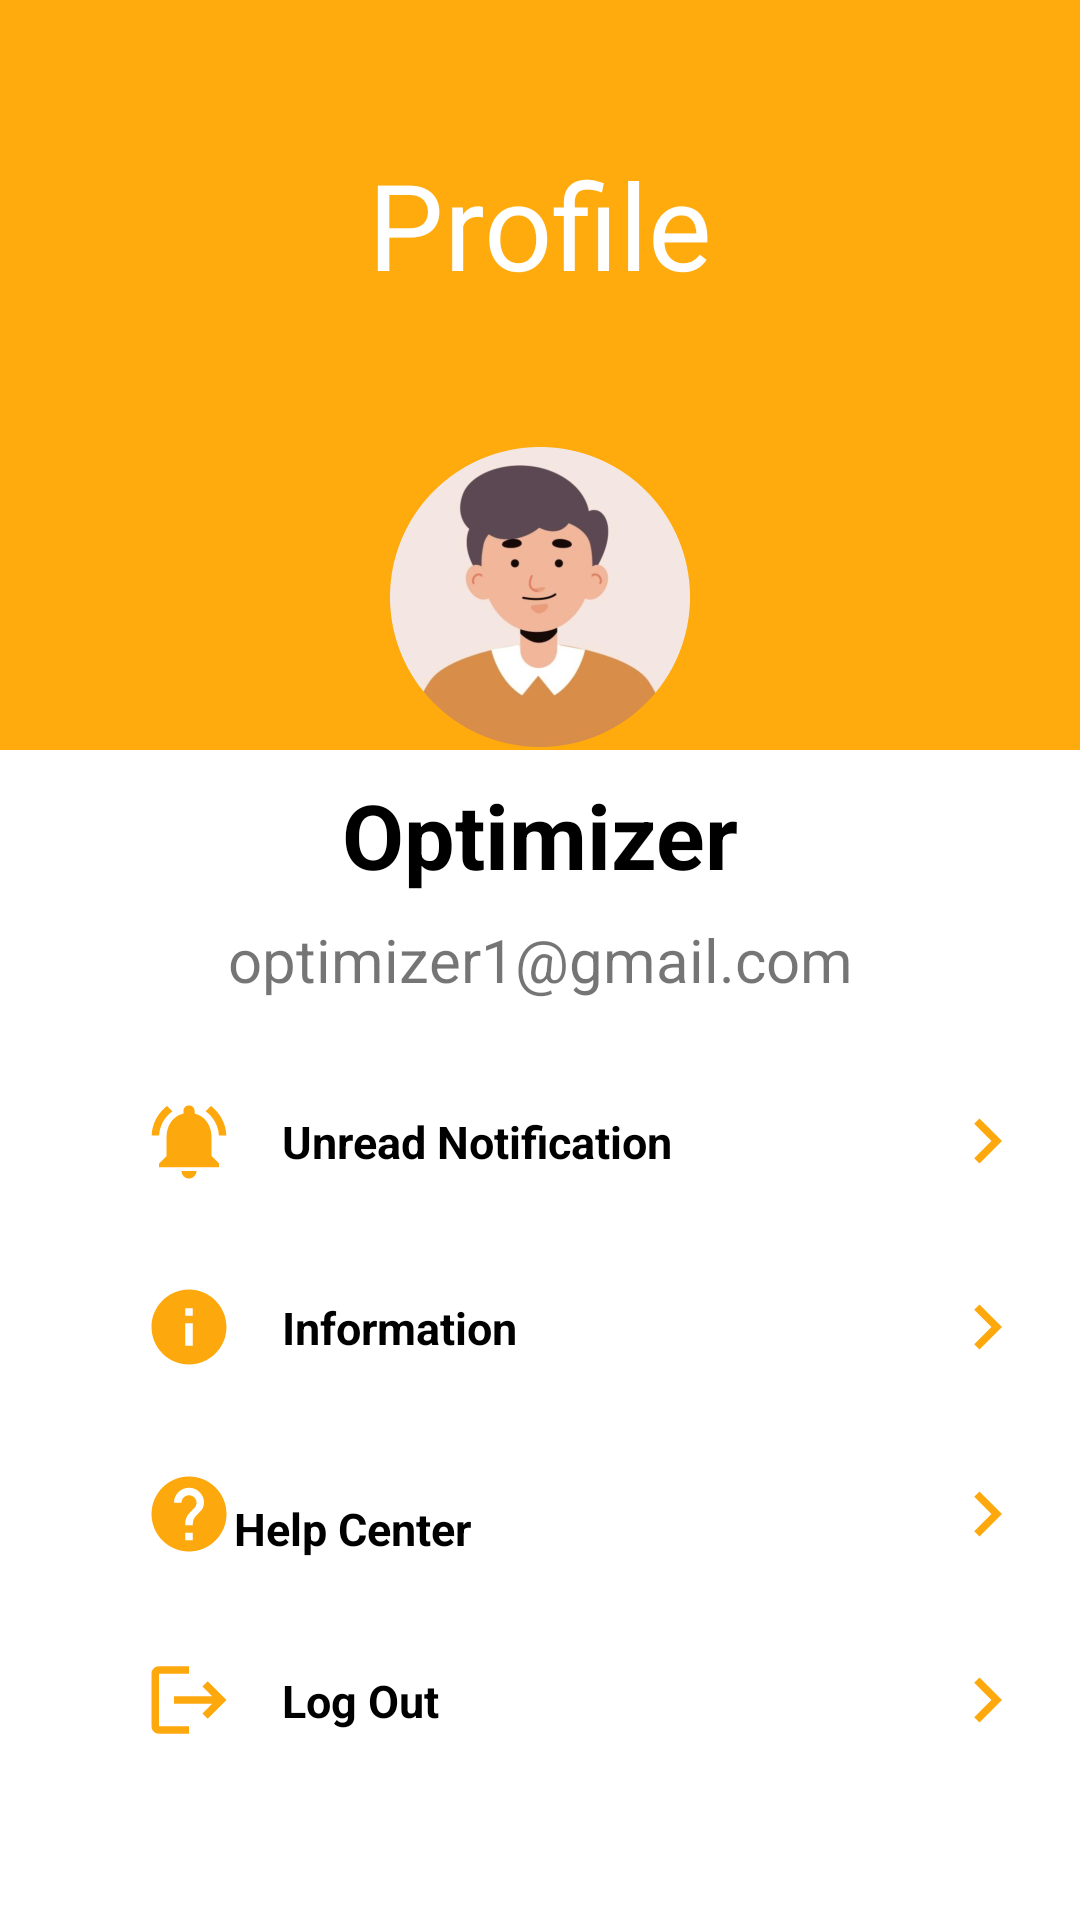

Named icons in this screenshot (1080*1920) and their centers, [x,y]:
ava: [540,597]
keyboard arrow right: [988,1141], [988,1327], [988,1514], [988,1700]
notifications: [189,1142]
